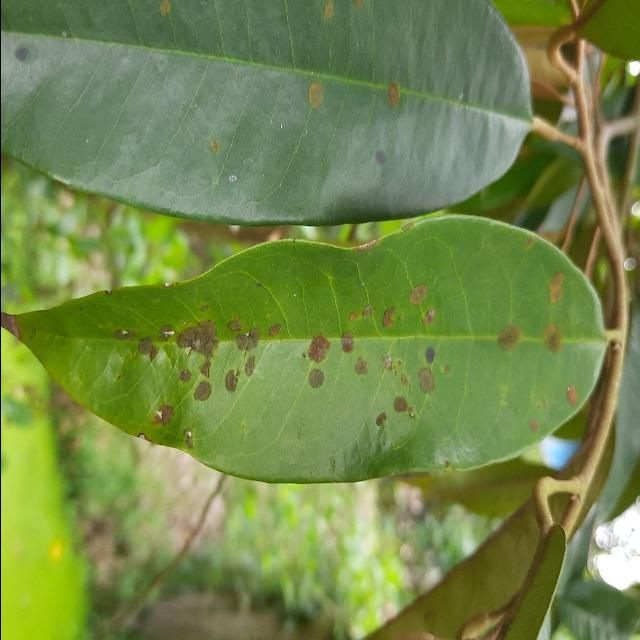Algal Leaf Spot: (0, 211, 615, 491)
